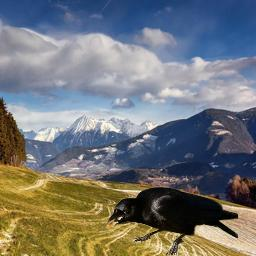Crow: (105, 186, 238, 256)
